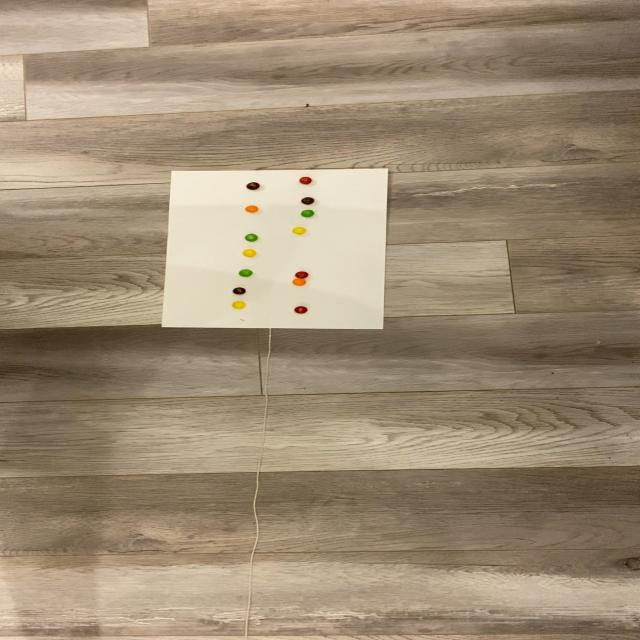smartie: (295, 271, 310, 280), (231, 301, 246, 310), (232, 288, 246, 297), (245, 233, 259, 242), (242, 248, 256, 257), (300, 197, 315, 205), (238, 269, 253, 277), (300, 210, 315, 218), (246, 182, 260, 190), (291, 280, 305, 288), (299, 176, 313, 184), (291, 227, 305, 235), (294, 306, 307, 314), (246, 206, 259, 213)
